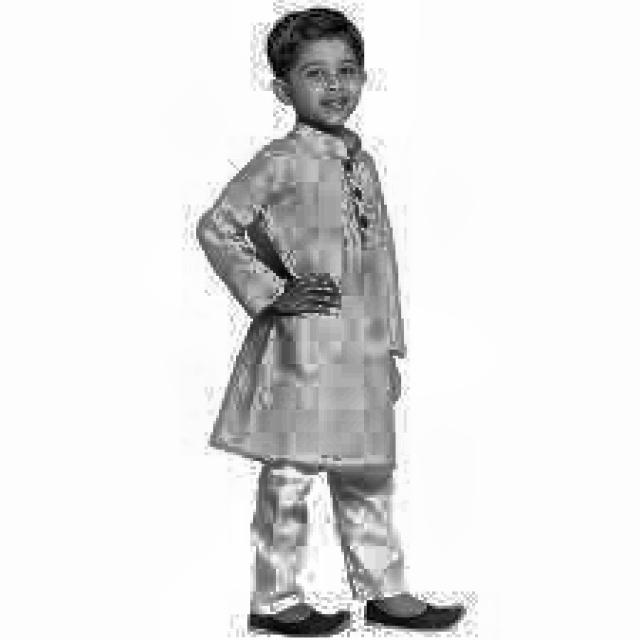Human: (192, 2, 494, 640)
